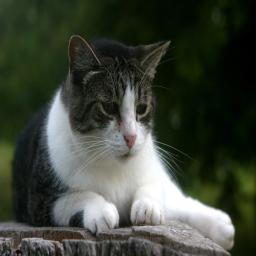catnose: (123, 133, 137, 150)
